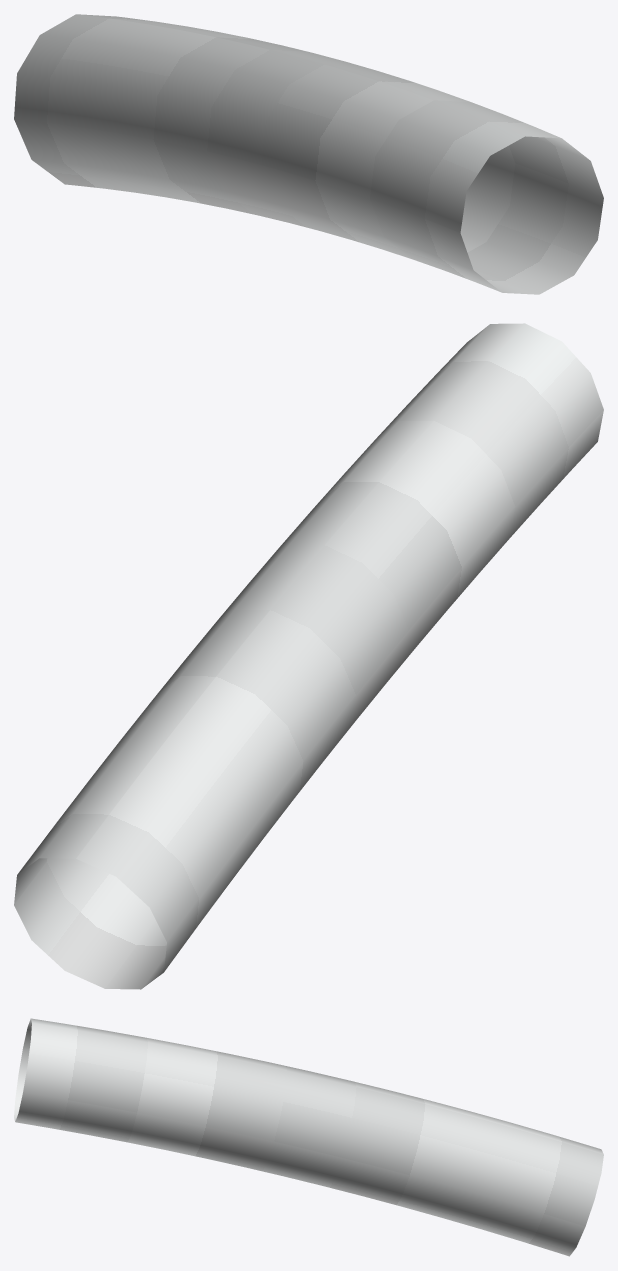
The model's file is luminairearm_caltrans10ftdouble_c9.obj.
The picture shows the model from 3 angles, top to bottom: view 1: azimuth 30°, elevation 25°; view 2: azimuth 150°, elevation 25°; view 3: azimuth 270°, elevation 25°; orthographic projection. The views are drawn at different scales.
Visible parts, largest first — view 1: luminairearm_caltrans10ftdouble_c9; view 2: luminairearm_caltrans10ftdouble_c9; view 3: luminairearm_caltrans10ftdouble_c9.
Boxes of the visible parts, left/top/right/bottom form: luminairearm_caltrans10ftdouble_c9: left=14, top=14, right=603, bottom=294; luminairearm_caltrans10ftdouble_c9: left=14, top=323, right=603, bottom=989; luminairearm_caltrans10ftdouble_c9: left=14, top=1018, right=603, bottom=1256.
Bounding box in the file's own units: 0.2 × 0.4469 × 1.05.
